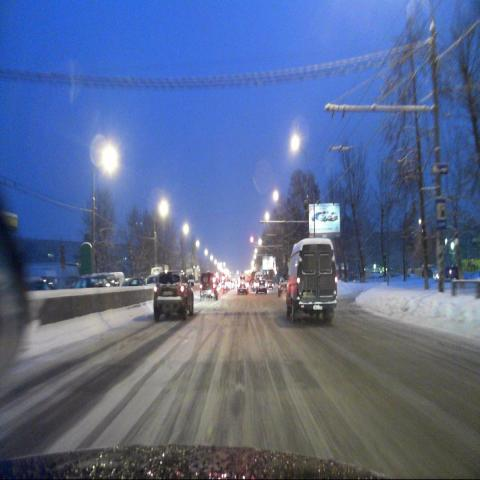6_15_2: (431, 163, 449, 177)
